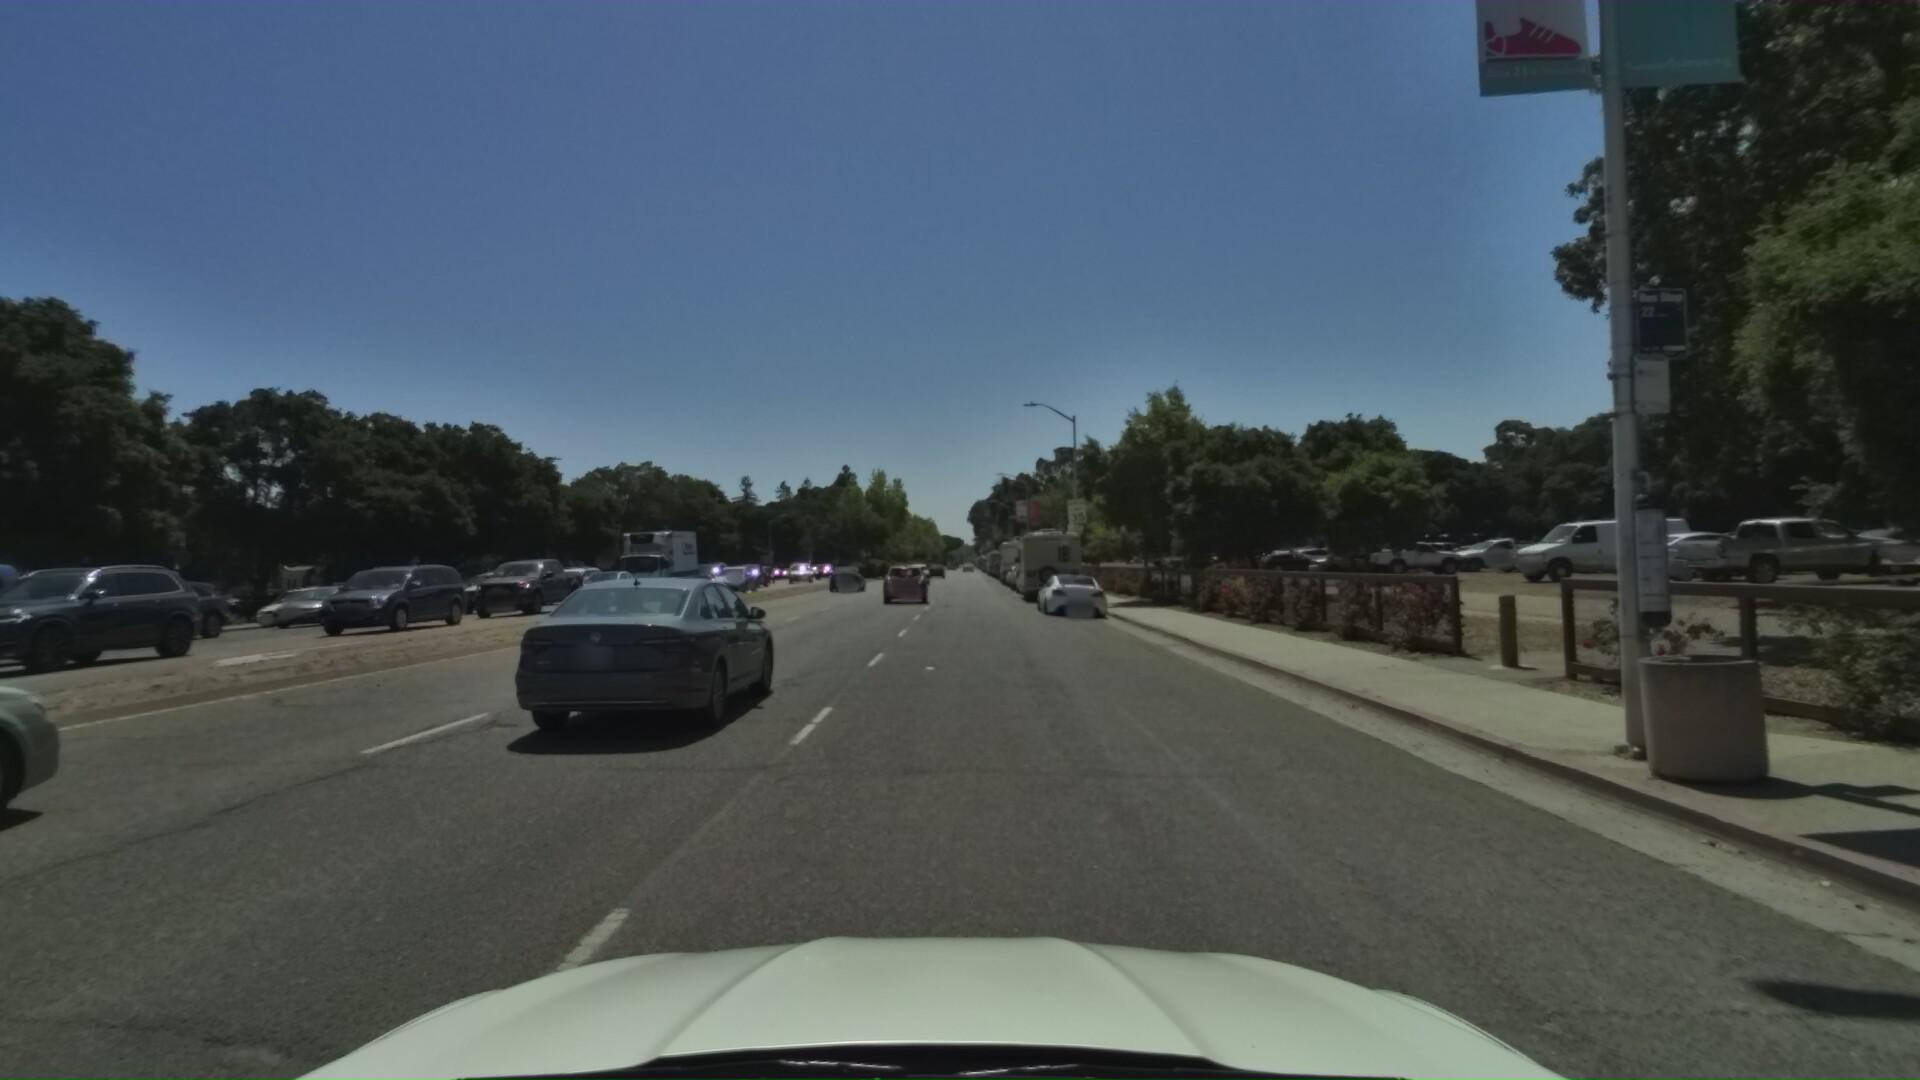car: (493, 556, 794, 756), (5, 568, 220, 649), (287, 556, 465, 636), (458, 553, 587, 616), (243, 572, 357, 628), (253, 578, 380, 624), (1031, 558, 1113, 617), (444, 564, 535, 611), (534, 555, 615, 595), (563, 563, 640, 601), (880, 556, 928, 604), (702, 555, 760, 588), (678, 554, 735, 587), (1007, 547, 1048, 582), (828, 563, 866, 592), (905, 556, 935, 582), (789, 556, 812, 579)
other_vehicle: (1015, 517, 1087, 592), (996, 520, 1040, 576)
truck: (603, 516, 704, 593)
